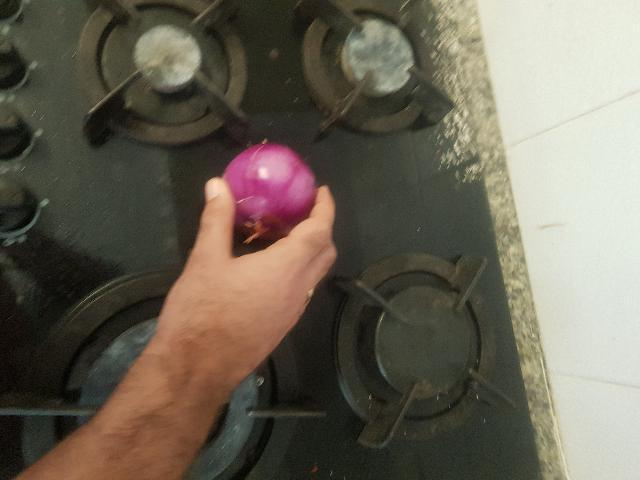onion: (220, 138, 317, 237)
